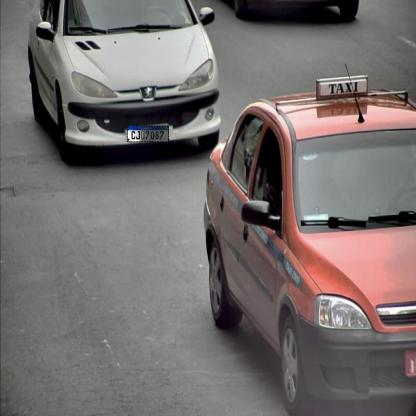PlacaM: (127, 126, 169, 142)
